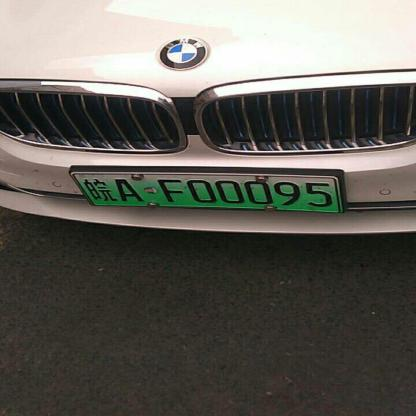lp: (73, 173, 338, 211)
